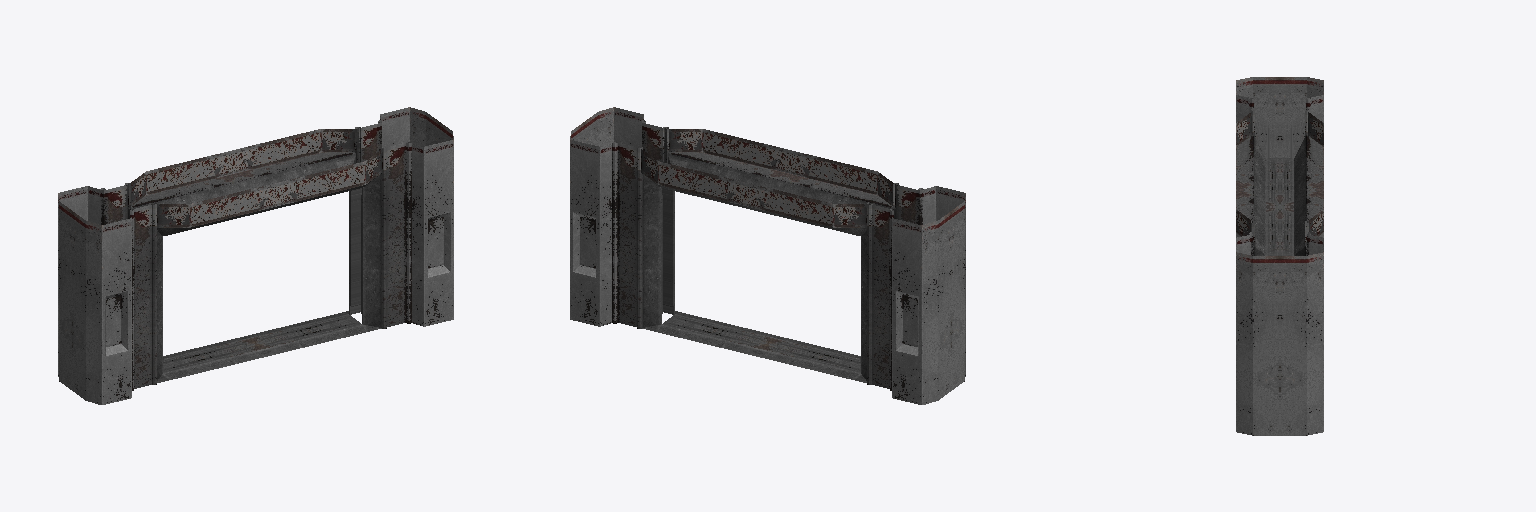
The picture shows the model from 3 angles: view 1: azimuth 30°, elevation 25°; view 2: azimuth 150°, elevation 25°; view 3: azimuth 270°, elevation 25°; orthographic projection.
Visible parts, largest first — view 1: g9j4769cytol.001; view 2: g9j4769cytol.001; view 3: g9j4769cytol.001.
Boxes of the visible parts, x1,y1,x2,y2 form: g9j4769cytol.001: [58, 107, 453, 404]; g9j4769cytol.001: [570, 107, 965, 404]; g9j4769cytol.001: [1236, 77, 1323, 435].
Size of the model in its own units: 6.39 by 3.01 by 1.34.
1 materials, 1 textured.